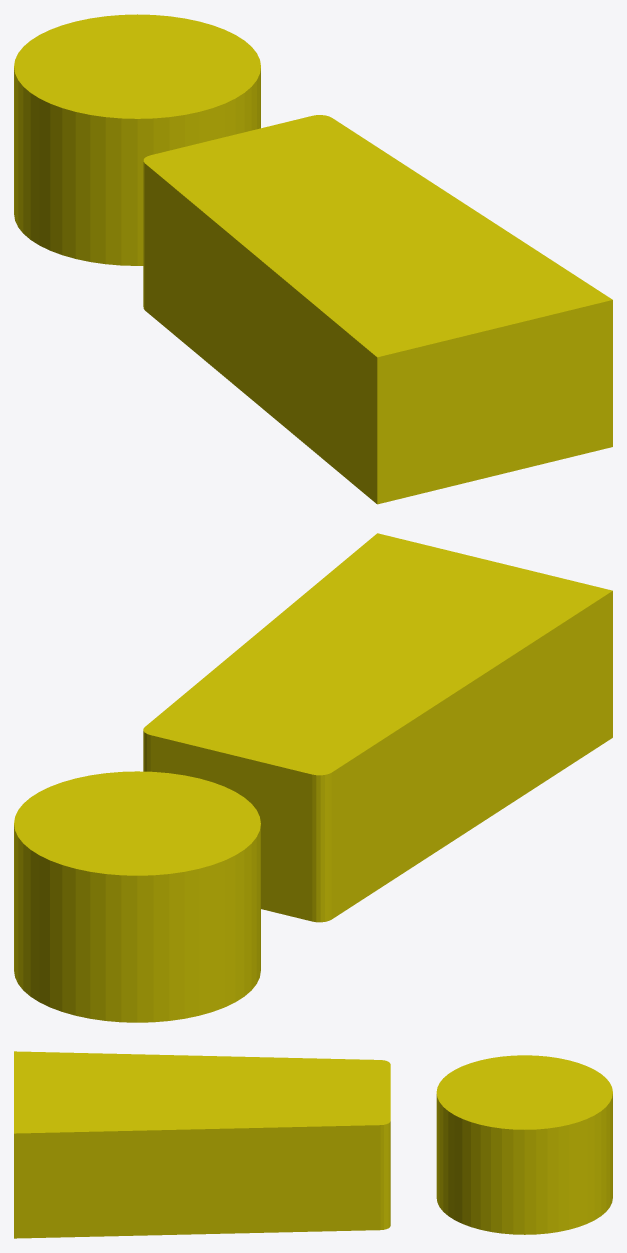
File: Exclamation.obj
The picture shows the model from 3 angles, top to bottom: view 1: azimuth 30°, elevation 25°; view 2: azimuth 150°, elevation 25°; view 3: azimuth 270°, elevation 25°; orthographic projection. The views are drawn at different scales.
Parts seen in each view (by area): view 1: Object.1, Object.2; view 2: Object.1, Object.2; view 3: Object.1, Object.2.
Part boxes in pixels (left/top/right/bottom): Object.1: left=143, top=115, right=612, bottom=504; Object.2: left=14, top=14, right=260, bottom=265; Object.1: left=143, top=533, right=612, bottom=922; Object.2: left=14, top=771, right=260, bottom=1022; Object.1: left=14, top=1051, right=390, bottom=1238; Object.2: left=436, top=1055, right=612, bottom=1234.
Size of the model in its own units: 19.84 by 11.83 by 61.15.
